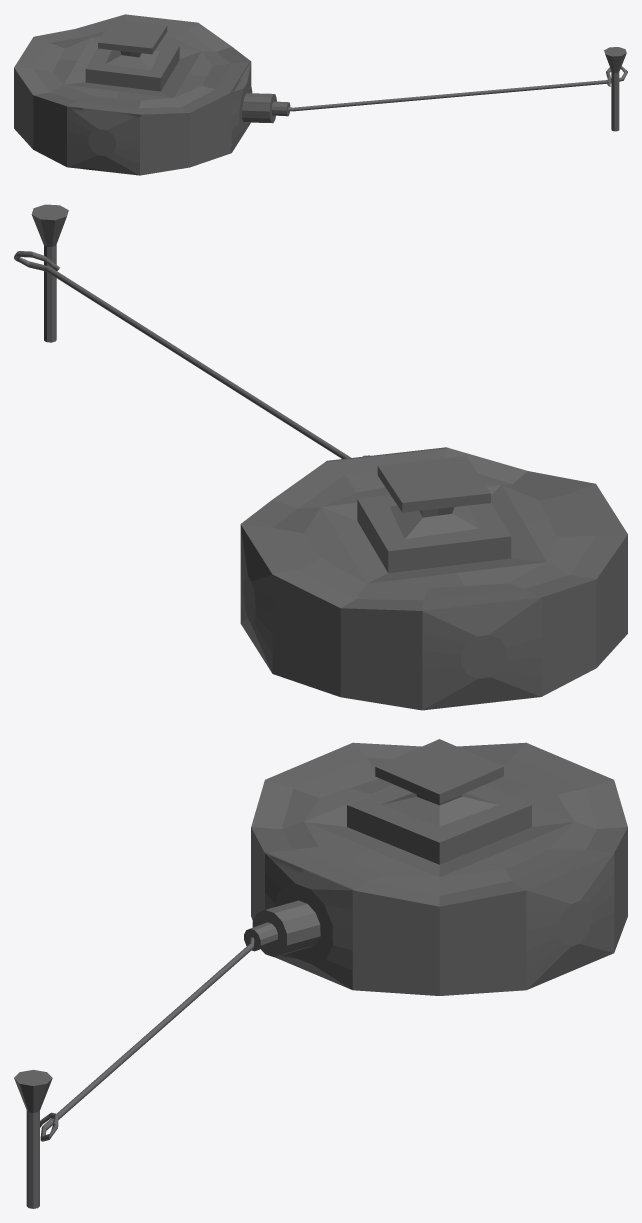
Rendered from Trap.glb.
3 renders of one model, top to bottom at view 1: azimuth 30°, elevation 25°; view 2: azimuth 150°, elevation 25°; view 3: azimuth 270°, elevation 25°, orthographic. The views are drawn at different scales.
Visible parts, largest first — view 1: Trap; view 2: Trap; view 3: Trap.
Boxes of the visible parts, bbox=[...] form: Trap: bbox=[14, 14, 627, 175]; Trap: bbox=[14, 204, 627, 710]; Trap: bbox=[14, 739, 627, 1208].
Size of the model in its own units: 0.7176 by 0.1335 by 0.4888.
1 material, 1 textured.
